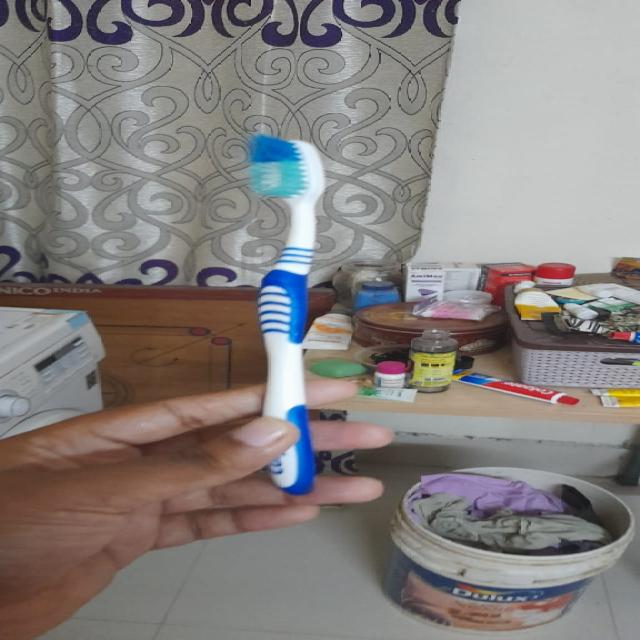Tooth_Brush - Non Recyclable: (216, 114, 352, 506)
